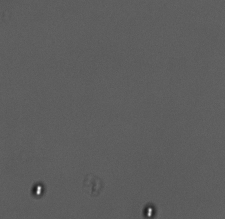Dead Cell: (84, 174, 102, 197)
Living Cell: (29, 181, 46, 198), (143, 204, 157, 216)
